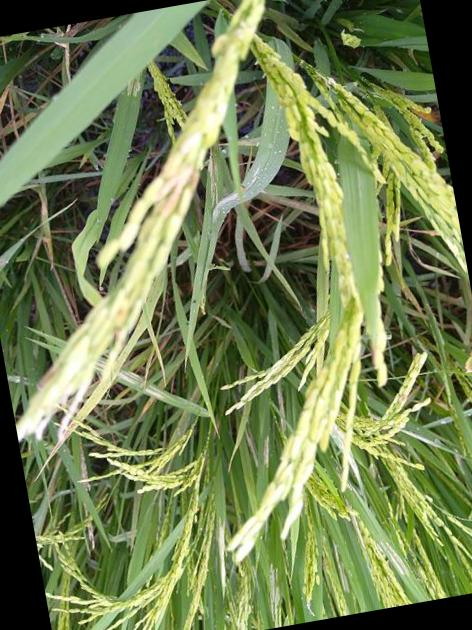Panicle Blight: (38, 358, 63, 391), (113, 310, 129, 344), (162, 188, 181, 216), (160, 176, 179, 196), (188, 169, 199, 187)
